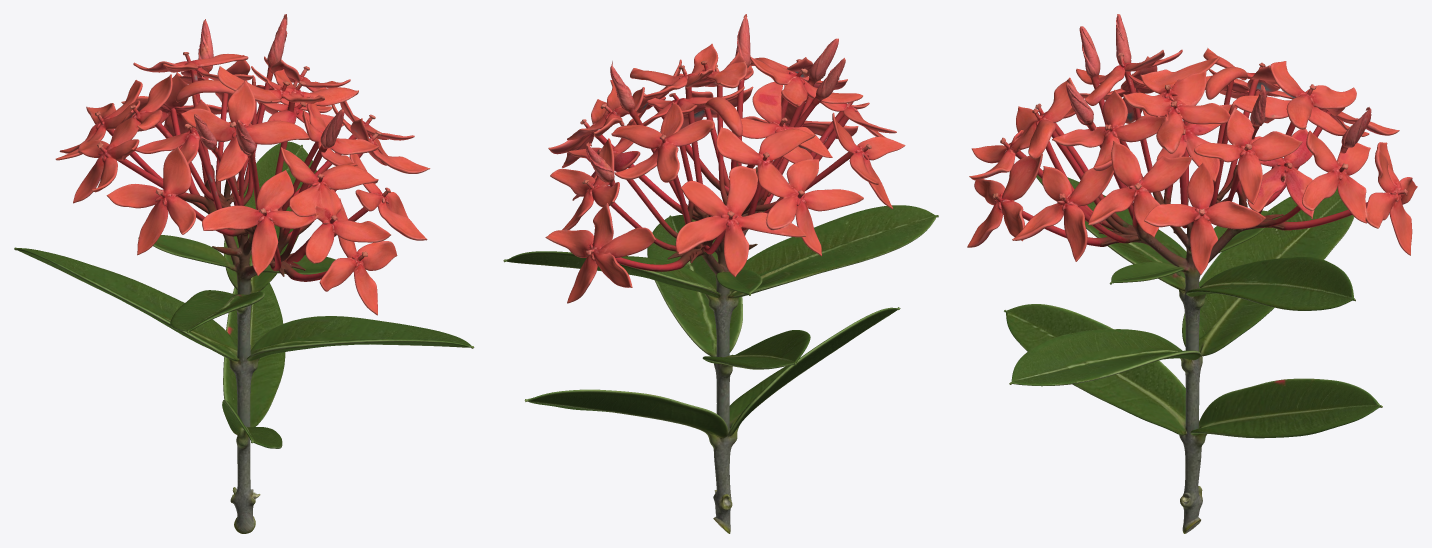
Rendered from ixora_coccinea.fbx.
3 views of the same model, side by side, from view 1: azimuth 30°, elevation 25°; view 2: azimuth 150°, elevation 25°; view 3: azimuth 270°, elevation 25° (orthographic). The views are drawn at different scales.
Visible parts, largest first — view 1: tripo_node_c5052a33; view 2: tripo_node_c5052a33; view 3: tripo_node_c5052a33.
Boxes of the visible parts, box(x1,y1,x2,y2) form: tripo_node_c5052a33: box(14, 14, 474, 533); tripo_node_c5052a33: box(503, 14, 938, 533); tripo_node_c5052a33: box(967, 14, 1417, 533).
Size of the model in its own units: 66.48 by 98.36 by 82.4.
Materials: 1 (1 with a texture image).
